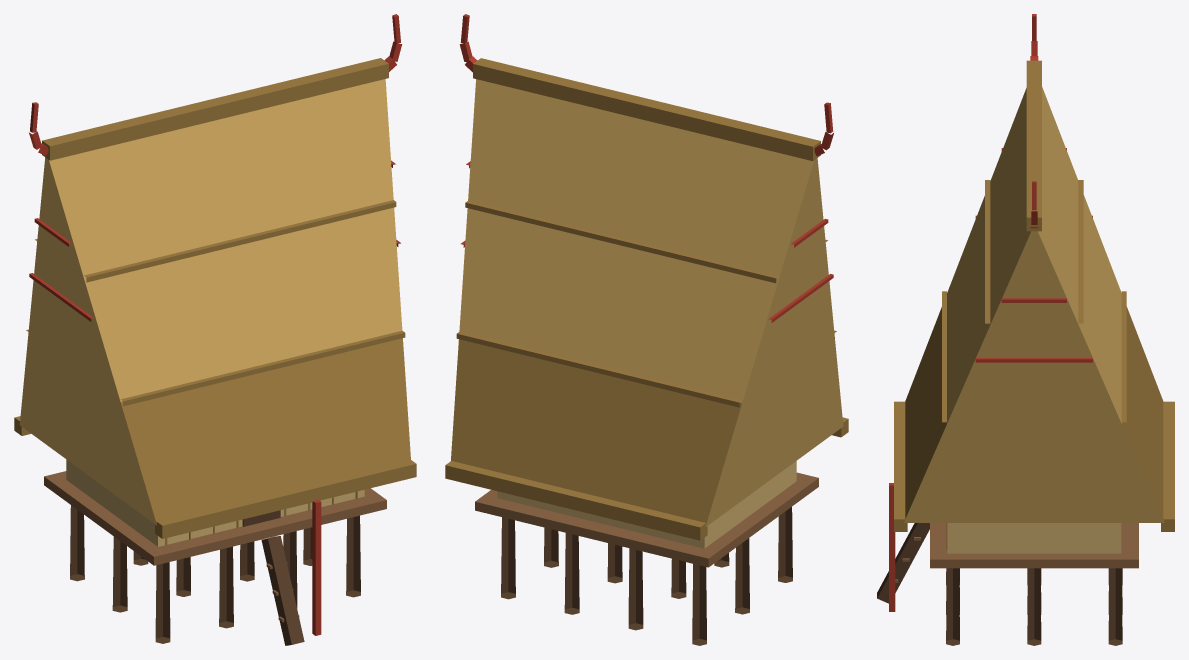
File: viet_nha_rong.glb
The picture shows the model from 3 angles, left to right: view 1: azimuth 30°, elevation 25°; view 2: azimuth 150°, elevation 25°; view 3: azimuth 270°, elevation 25°; orthographic projection. The views are drawn at different scales.
Visible parts, largest first — view 1: viet_nha_rong; view 2: viet_nha_rong; view 3: viet_nha_rong.
Part boxes in pixels (<box>): viet_nha_rong: <box>14,14,416,645</box>; viet_nha_rong: <box>445,14,848,645</box>; viet_nha_rong: <box>877,14,1174,645</box>.
Bounding box in the file's own units: 0.7319 × 1 × 0.5366.
